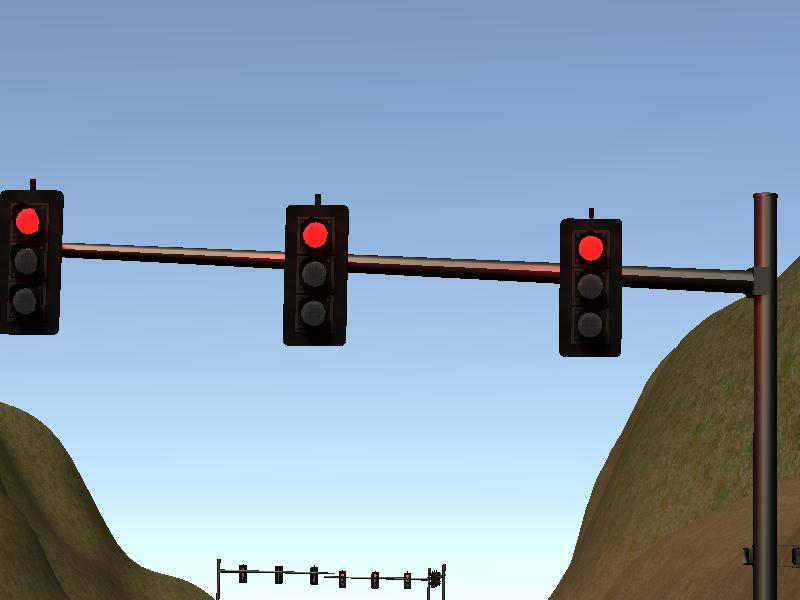Red: (1, 191, 65, 337), (284, 204, 346, 345), (561, 218, 620, 358)
